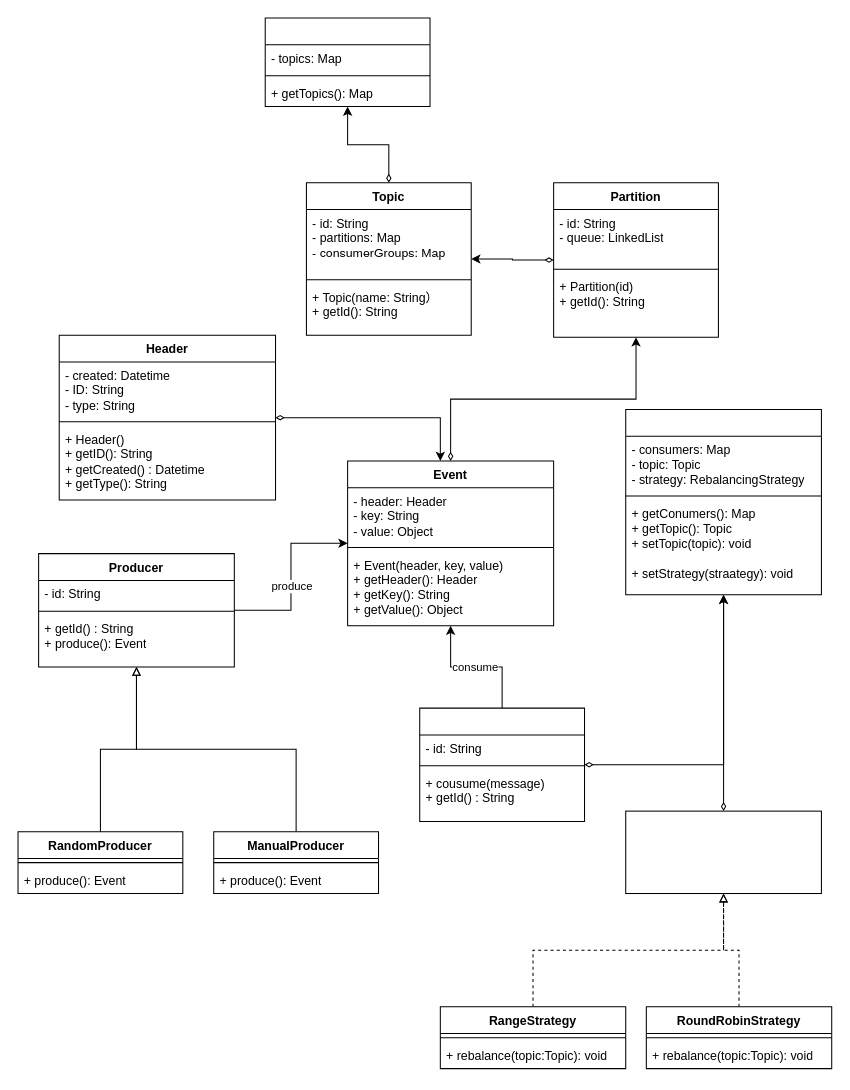
The diagram is 850 pixels wide and 1090 high, and some of its shapes have lost their labels. The shapes that lost their labels are listed below. From the top down, each one's box as (x1, y1, x2, y2) in pixels, then its label:
(264, 17, 430, 107): Cluster
(625, 408, 821, 595): ConsumerGrooup
(419, 707, 585, 821): Consumer
(625, 810, 821, 894): <<Interface>> RebalancingStrategy + rebalance(topic:Topic): void
